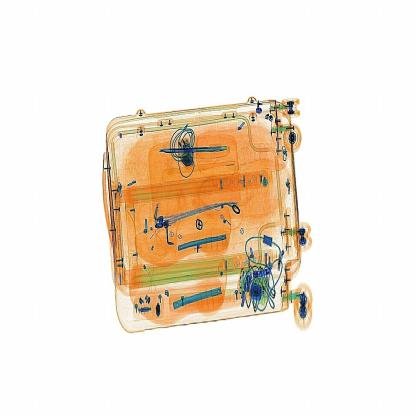pliers: (159, 146, 238, 157)
